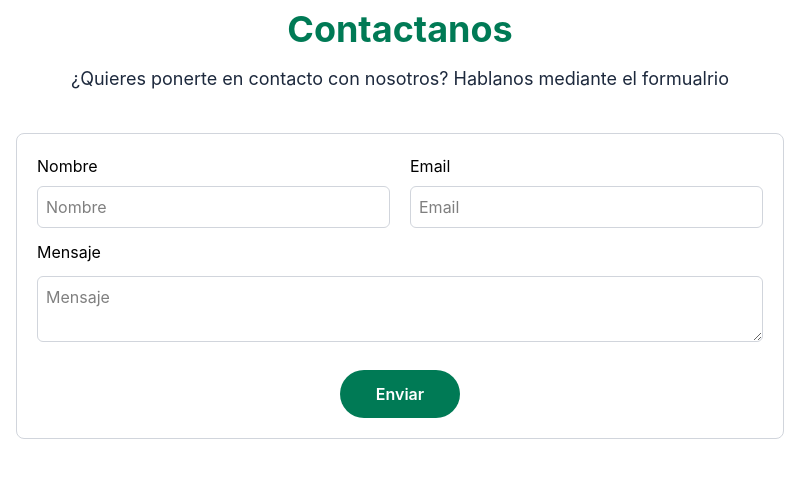
FormularioContactanos › muestra los errores de campos obligatorios al enviar vacío
Click the button "Enviar": (400, 394) [340,370,460,418]
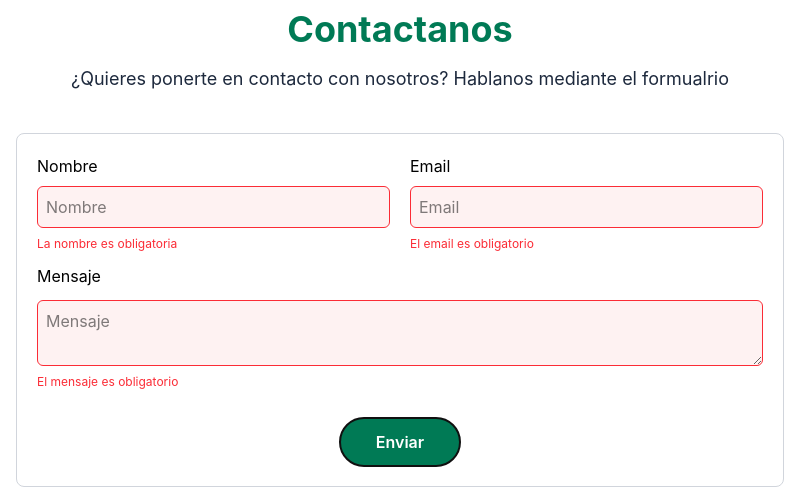
Expected: the text "La nombre es obligatoria" is shown, [37,236,177,251]
Expected: the text "El email es obligatorio" is shown, [410,236,534,251]
Expected: the text "El mensaje es obligatorio" is shown, [37,374,178,389]
